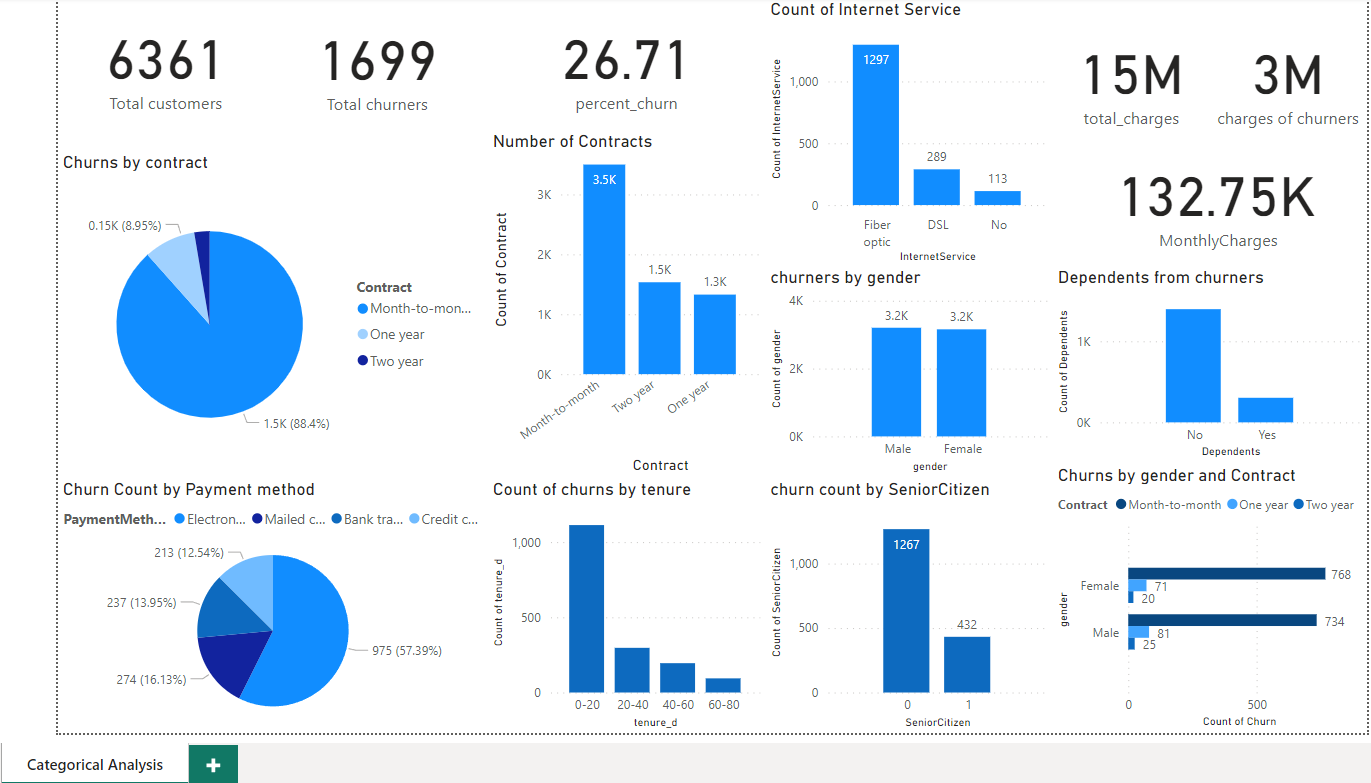

The dashboard page shown, as its layout file describes it:
{"tool":"powerbi","page":{"name":"Categorical Analysis","canvas":[1280,720],"ordinal":0},"visuals":[{"type":"pieChart","title":"Churns  by contract","fields":{"Category":["Telco-Customer-Churn.Contract"],"Y":["CountNonNull(Telco-Customer-Churn.Contract)"]},"box":[0,130.2,420.9,340],"z":0},{"type":"card","fields":{"Values":["Telco-Customer-Churn.churn_count"]},"box":[204.3,1.4,216.6,130.2],"z":1000},{"type":"card","fields":{"Values":["Telco-Customer-Churn.total_count"]},"box":[0,0,211.1,130.2],"z":2000},{"type":"card","fields":{"Values":["Telco-Customer-Churn.percent_churn"]},"box":[420.9,0,271.5,130.2],"z":3000},{"type":"columnChart","title":"Number of  Contracts","fields":{"Category":["Telco-Customer-Churn.Contract"],"Y":["CountNonNull(Telco-Customer-Churn.Contract)"]},"box":[420.9,130.2,271.5,340],"z":3001},{"type":"columnChart","title":"churners by gender","fields":{"Category":["Telco-Customer-Churn.gender"],"Y":["CountNonNull(Telco-Customer-Churn.gender)"]},"box":[692.4,264.6,281.1,205.7],"z":3002},{"type":"columnChart","title":"churn count by SeniorCitizen","fields":{"Y":["CountNonNull(Telco-Customer-Churn.SeniorCitizen)"],"Category":["Telco-Customer-Churn.SeniorCitizen"]},"box":[692.4,470.3,281.1,249.5],"z":3004},{"type":"clusteredBarChart","title":"Churns by gender and Contract","fields":{"Category":["Telco-Customer-Churn.gender"],"Series":["Telco-Customer-Churn.Contract"],"Y":["CountNonNull(Telco-Customer-Churn.Churn)"]},"box":[973,457.2,306.8,262.8],"z":3005},{"type":"columnChart","title":"Count of Internet Service","fields":{"Category":["Telco-Customer-Churn.InternetService"],"Y":["CountNonNull(Telco-Customer-Churn.InternetService)"]},"box":[692.4,1.4,281.1,263.2],"z":3007},{"type":"card","title":"charges of churners","fields":{"Values":["Telco-Customer-Churn.total_charges"]},"box":[1127,1.4,152.2,157.7],"z":3008},{"type":"card","fields":{"Values":["Telco-Customer-Churn.total_charges"]},"box":[973.4,0,153.6,159],"z":3009},{"type":"columnChart","title":"Dependents from churners","fields":{"Y":["CountNonNull(Telco-Customer-Churn.Dependents)"],"Category":["Telco-Customer-Churn.Dependents"]},"box":[973,264,306.8,191.9],"z":3010},{"type":"pieChart","title":"Churn Count by Payment method","fields":{"Y":["CountNonNull(Telco-Customer-Churn.PaymentMethod)"],"Category":["Telco-Customer-Churn.PaymentMethod"]},"box":[0,470.3,420.9,249.5],"z":3011},{"type":"columnChart","title":"Count of churns by tenure","fields":{"Category":["Telco-Customer-Churn.tenure_d"],"Y":["CountNonNull(Telco-Customer-Churn.tenure_d)"]},"box":[420.9,470.3,271.5,249.5],"z":3012},{"type":"card","fields":{"Values":["Sum(Telco-Customer-Churn.MonthlyCharges)"]},"box":[985.8,133,294.8,131.6],"z":3013}]}

Visuals, with their boxes on the page's 1280x720 design canvas (x1, y1, x2, y2). These are canvas units, not pixel positions in the 1371x783 screenshot, which may show the page scaled, cropped or inside an application window:
"Churns  by contract" pieChart: left=0, top=130, right=421, bottom=470
card - Telco-Customer-Churn.churn_count: left=204, top=1, right=421, bottom=132
card - Telco-Customer-Churn.total_count: left=0, top=0, right=211, bottom=130
card - Telco-Customer-Churn.percent_churn: left=421, top=0, right=692, bottom=130
"Number of  Contracts" columnChart: left=421, top=130, right=692, bottom=470
"churners by gender" columnChart: left=692, top=265, right=974, bottom=470
"churn count by SeniorCitizen" columnChart: left=692, top=470, right=974, bottom=720
"Churns by gender and Contract" clusteredBarChart: left=973, top=457, right=1280, bottom=720
"Count of Internet Service" columnChart: left=692, top=1, right=974, bottom=265
"charges of churners" card: left=1127, top=1, right=1279, bottom=159
card - Telco-Customer-Churn.total_charges: left=973, top=0, right=1127, bottom=159
"Dependents from churners" columnChart: left=973, top=264, right=1280, bottom=456
"Churn Count by Payment method" pieChart: left=0, top=470, right=421, bottom=720
"Count of churns by tenure" columnChart: left=421, top=470, right=692, bottom=720
card - Sum(Telco-Customer-Churn.MonthlyCharges): left=986, top=133, right=1281, bottom=265
